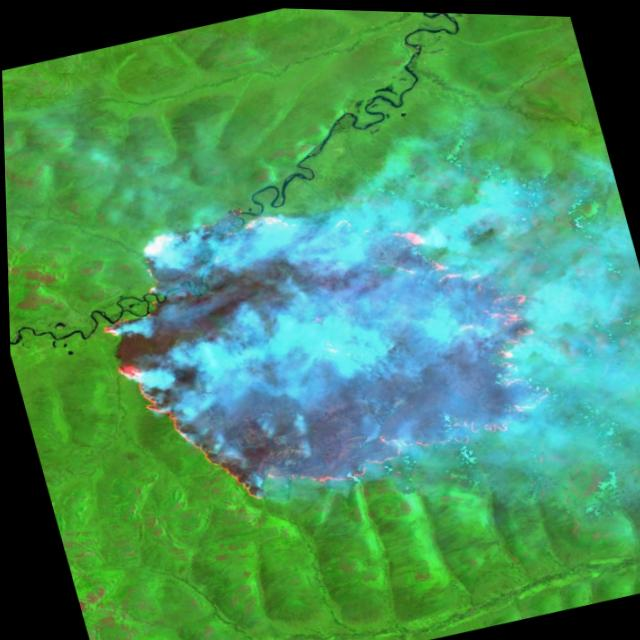fire: (68, 135, 571, 538)
